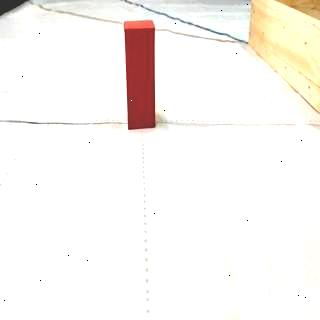redbox: (123, 20, 156, 130)
